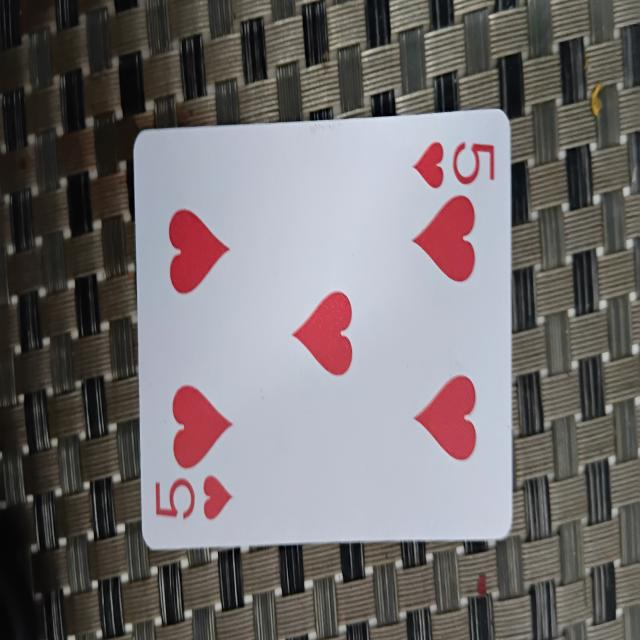5H: (133, 123, 516, 540)
